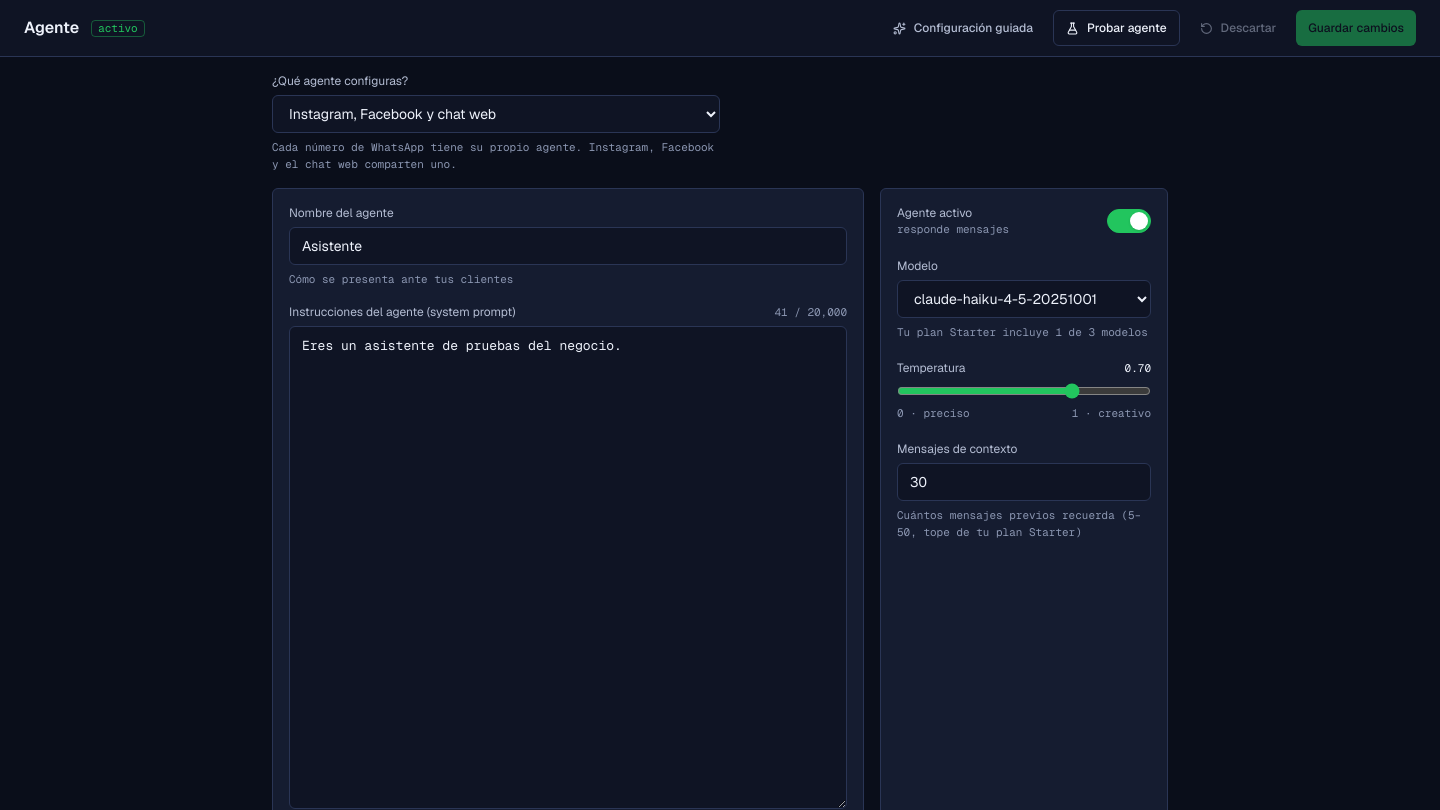
it: Límites del plan en /agente › dentro del tope, Guardar queda habilitado
Replace the text in the number field labelled "Mensajes de contexto" with "50" at (1024, 482), box [897,463,1151,501]
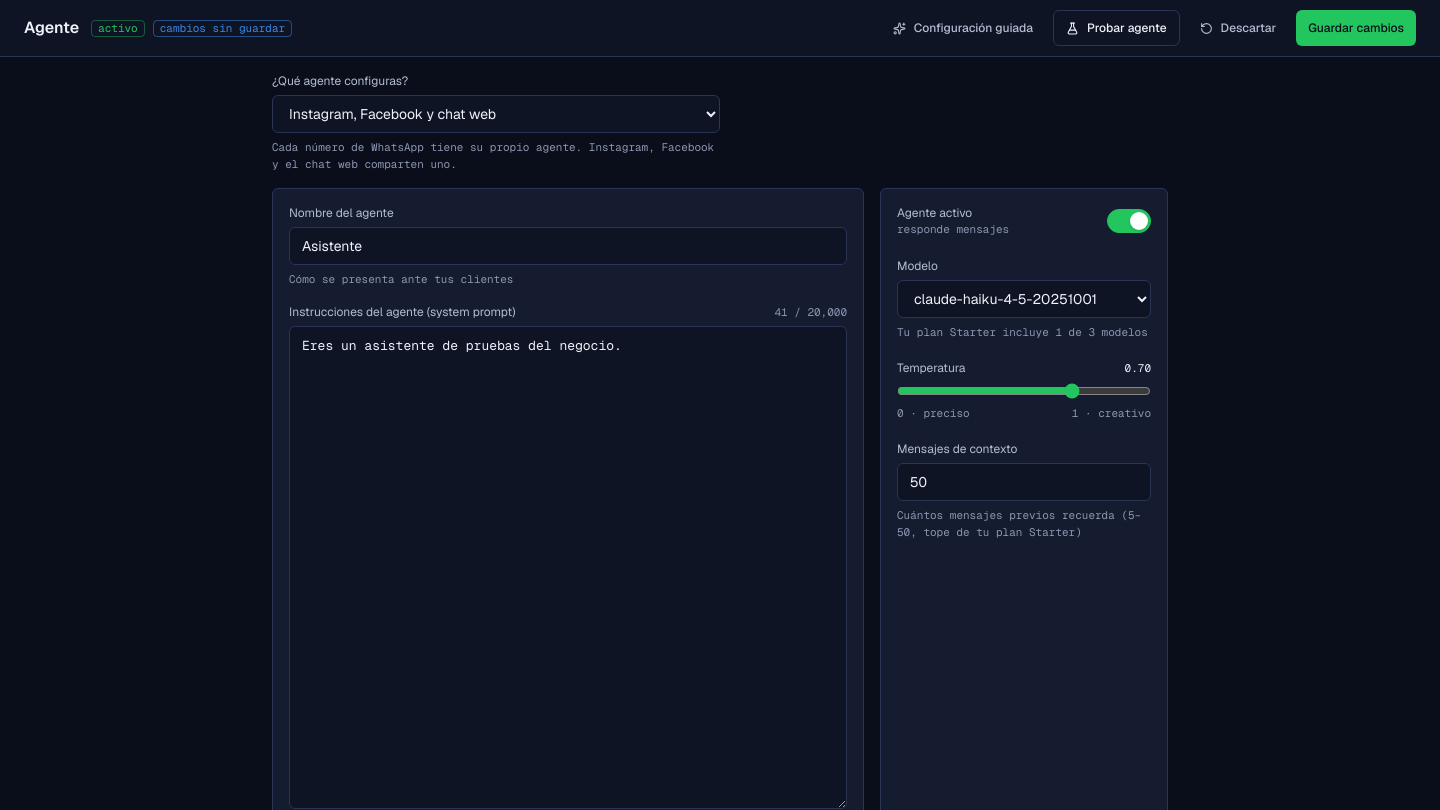
Result: the button "Guardar cambios" is enabled at [1296,10,1416,46]
